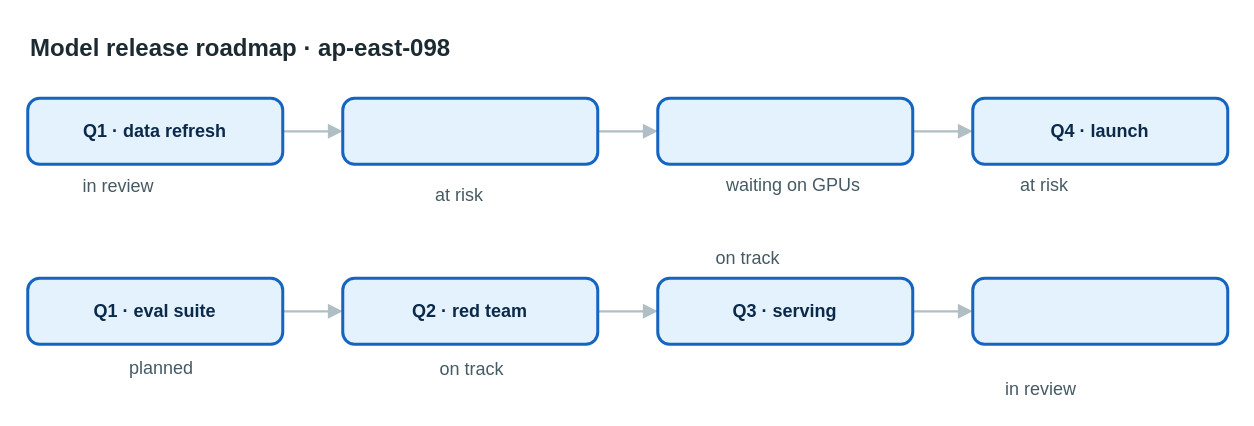
Some shapes in this 1254 by 426 pixel diagram are drawn without their labels. The shapes that lost their labels are listed below. From the top down, each one's centre as x and y in pixels, then its label:
At (469,130): "Q2 · pretrain".
At (785,130): "Q3 · alignment".
At (1099,310): "Q4 · docs".
